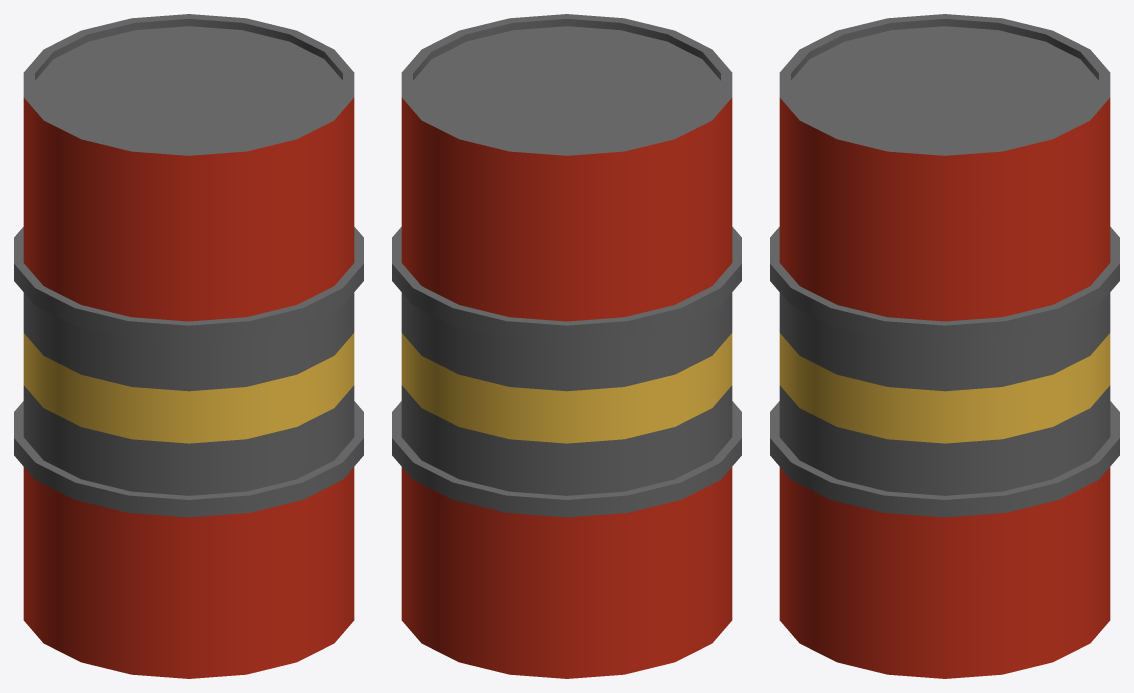
The model's file is 15 Oil_Drum.FBX.
The picture shows the model from 3 angles, left to right: view 1: azimuth 30°, elevation 25°; view 2: azimuth 150°, elevation 25°; view 3: azimuth 270°, elevation 25°; orthographic projection.
Parts seen in each view (by area): view 1: Cylinder087; view 2: Cylinder087; view 3: Cylinder087.
Part boxes in pixels (left/top/right/bottom): Cylinder087: left=14, top=14, right=363, bottom=678; Cylinder087: left=392, top=14, right=741, bottom=678; Cylinder087: left=770, top=14, right=1119, bottom=678.
Size of the model in its own units: 211 by 342 by 207.
